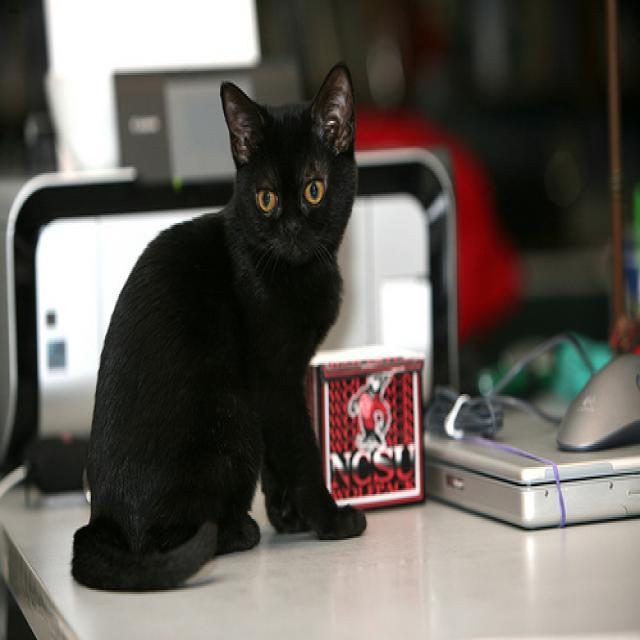Bombay: (219, 70, 362, 308)
